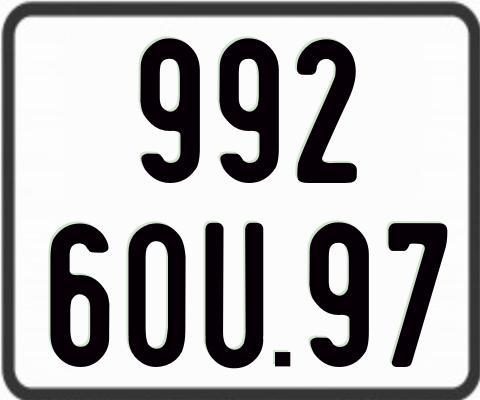0: (128, 220, 191, 366)
2: (297, 38, 358, 186)
6: (49, 222, 108, 366)
7: (387, 222, 450, 368)
9: (219, 37, 282, 186), (140, 37, 201, 186), (307, 222, 367, 367)
U: (203, 221, 261, 366)
